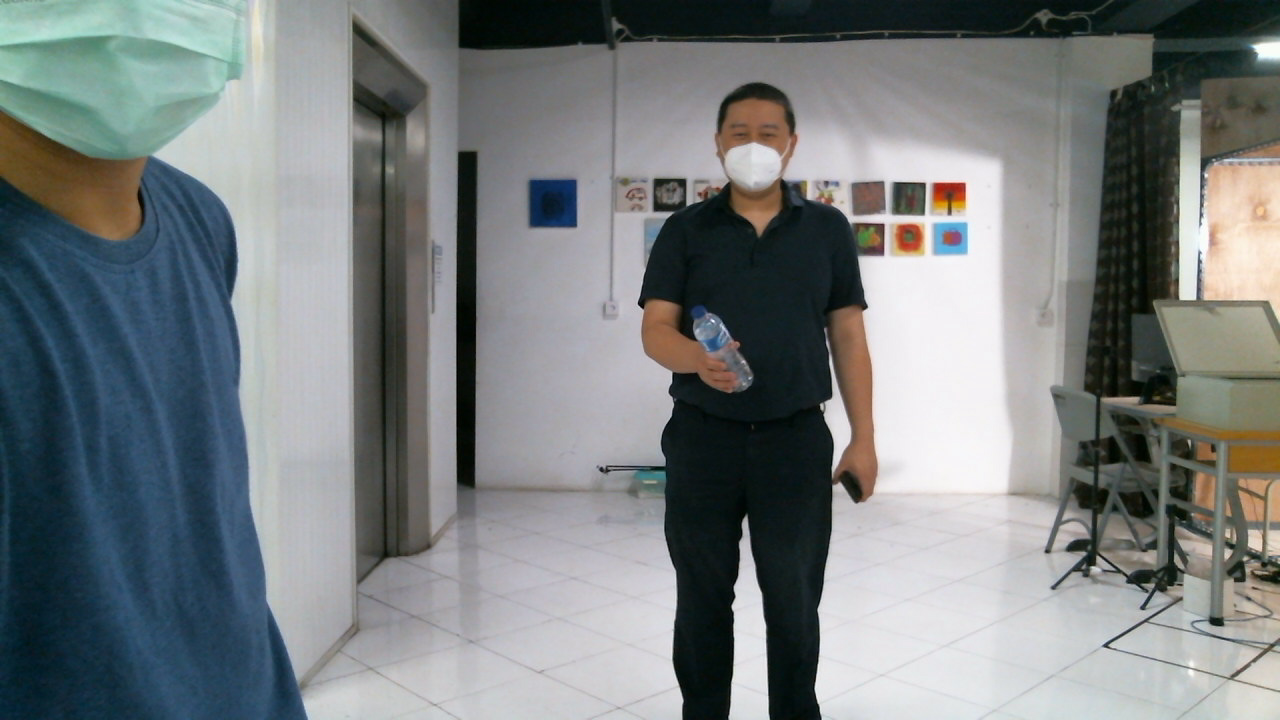Bottle: (686, 306, 756, 389)
